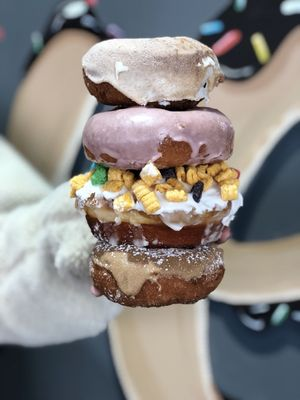salad: (81, 36, 224, 110), (82, 104, 234, 173), (88, 242, 225, 308)
